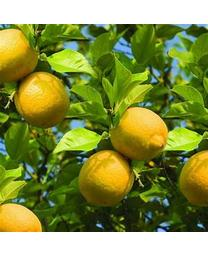lemon: (16, 72, 71, 127), (79, 151, 136, 203), (111, 109, 167, 157), (0, 28, 35, 79), (180, 152, 207, 207)
